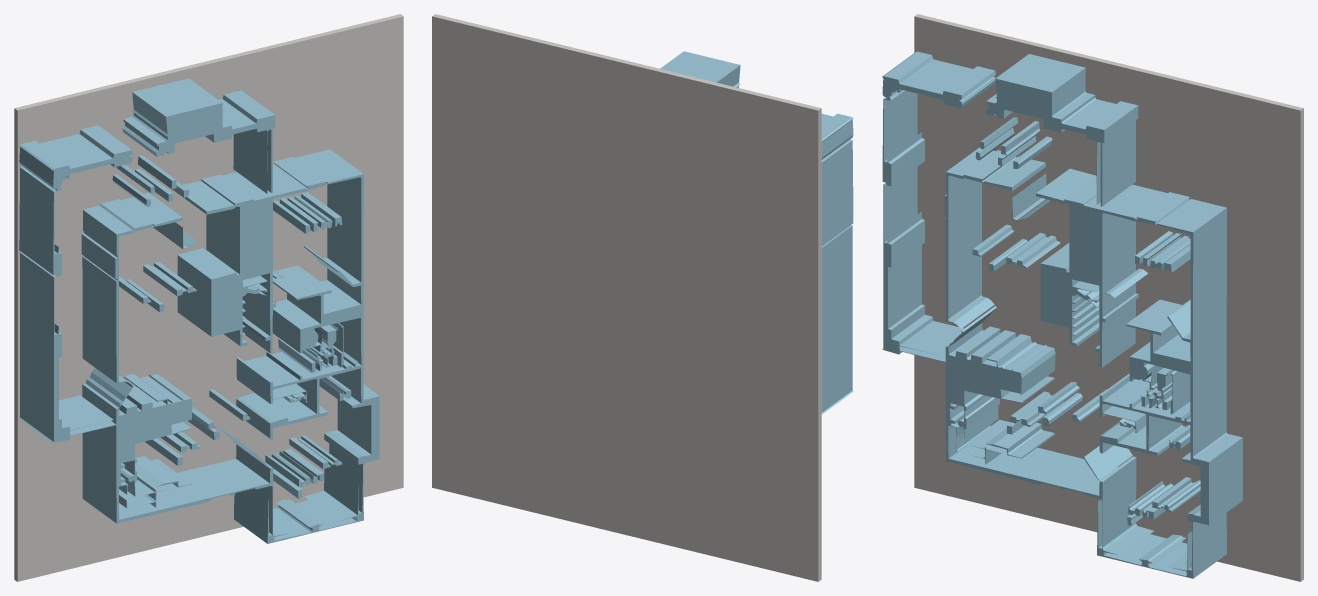
3 renders of one model, left to right at view 1: azimuth 30°, elevation 25°; view 2: azimuth 150°, elevation 25°; view 3: azimuth 330°, elevation 25°, orthographic.
Visible parts, largest first — view 1: world; view 2: world; view 3: world.
Boxes of the visible parts, x1,y1,x2,y2 form: world: (14, 14, 403, 581); world: (432, 14, 853, 581); world: (882, 14, 1303, 581).
Bounding box in the file's own units: 10.23 × 11.93 × 1.7.
